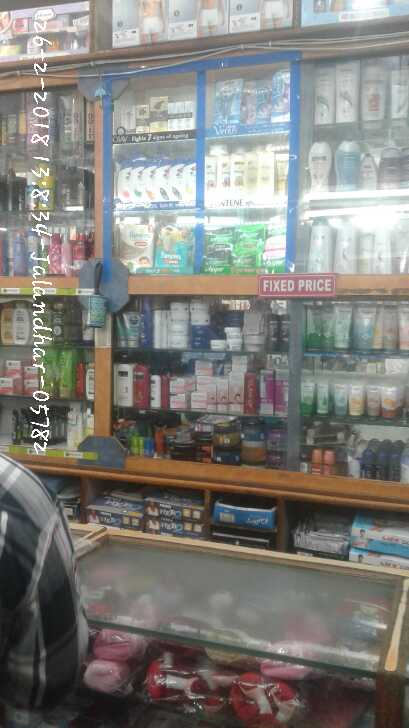venus: (217, 78, 244, 121), (244, 78, 271, 119), (271, 69, 290, 119)
